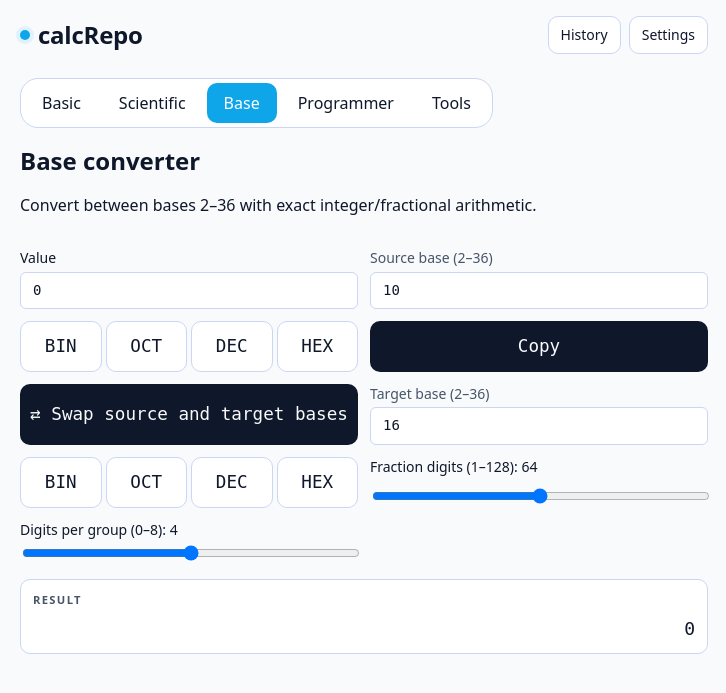
BaseView — source/target base input UX › treats a decimal as invalid and shows the same error
The image size is (726, 693).
Click the tab "Base".
click(242, 103)  # box 207,83 -> 277,123
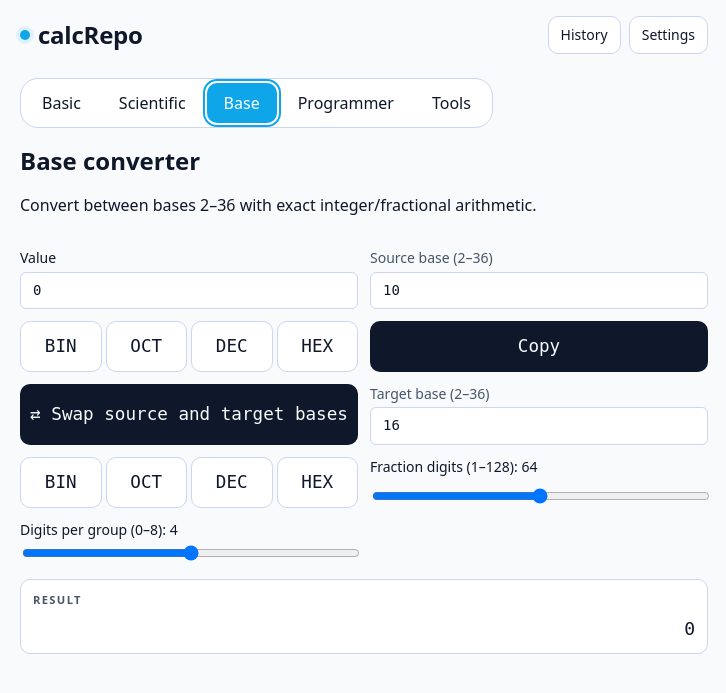
Replace the text in the field with test id "base-source" with "2.5" at (539, 290), box 370,272 -> 708,309
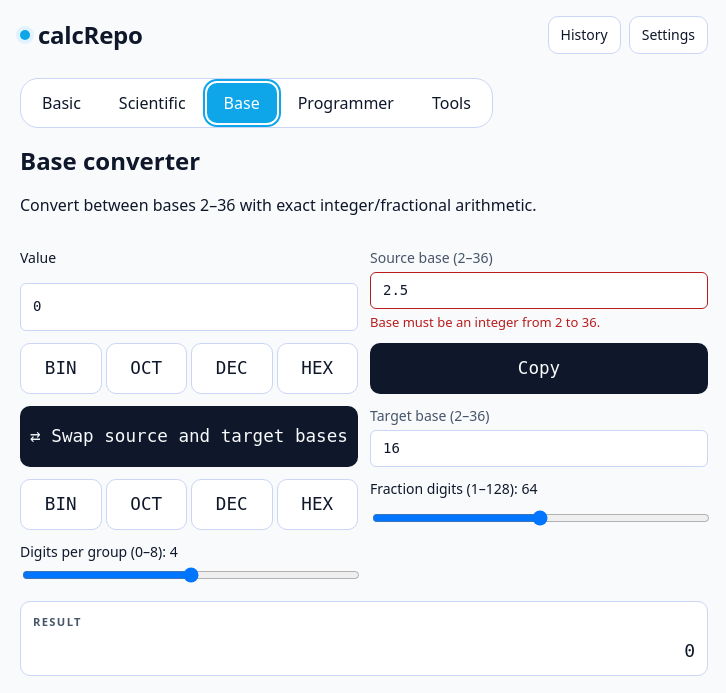
Result: the text "Base must be an integer from 2 to 36." is shown at 370,313 -> 600,331
